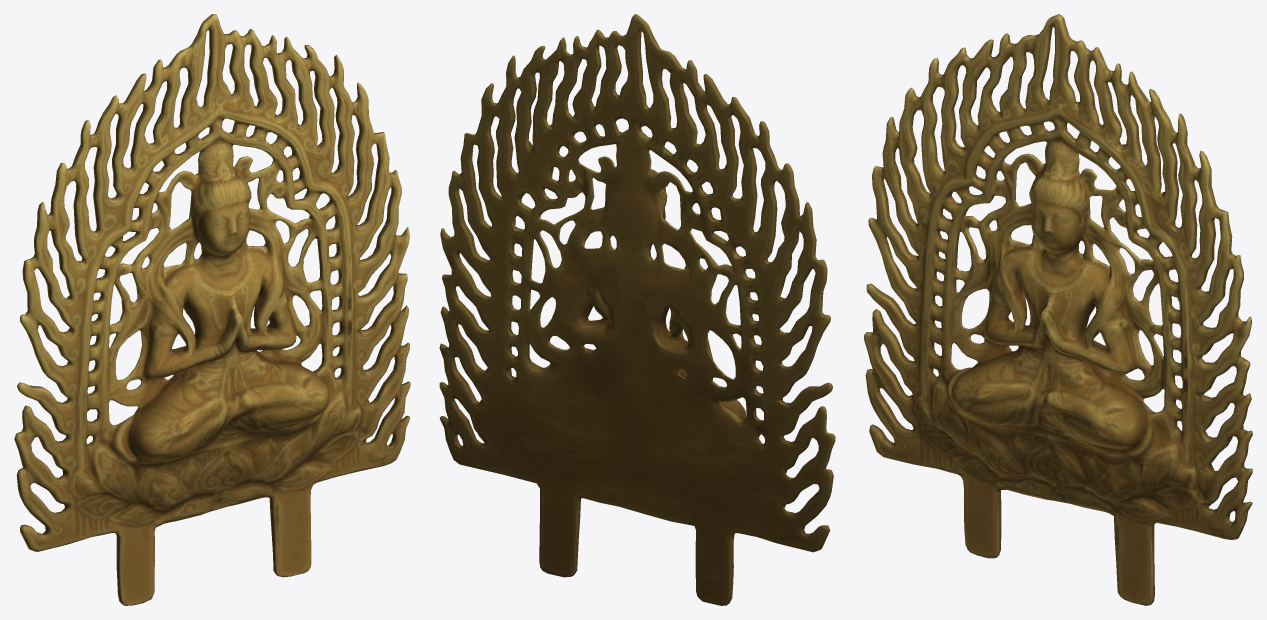
File: panbul.glb
3 views of the same model, side by side, from view 1: azimuth 30°, elevation 25°; view 2: azimuth 150°, elevation 25°; view 3: azimuth 330°, elevation 25° (orthographic).
Visible parts, largest first — view 1: SM_RE20003_LO; view 2: SM_RE20003_LO; view 3: SM_RE20003_LO.
Boxes of the visible parts, <box> form: SM_RE20003_LO: <box>14,14,410,605</box>; SM_RE20003_LO: <box>439,14,835,605</box>; SM_RE20003_LO: <box>864,14,1252,605</box>.
Size of the model in its own units: 14.05 by 19.72 by 1.79.
1 material, 1 textured.
